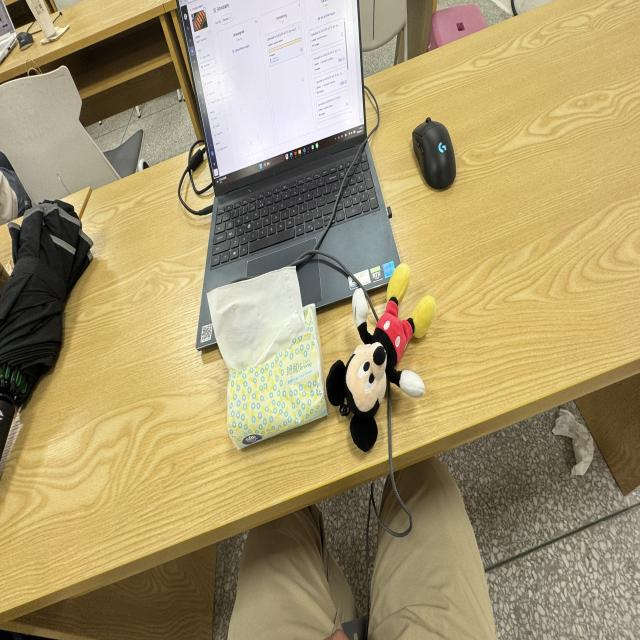mickey: (327, 264, 435, 451)
tissue: (208, 267, 326, 448), (228, 306, 326, 448), (208, 267, 303, 369), (553, 409, 594, 475)
